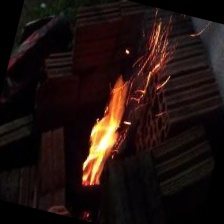fire: (69, 19, 162, 209)
